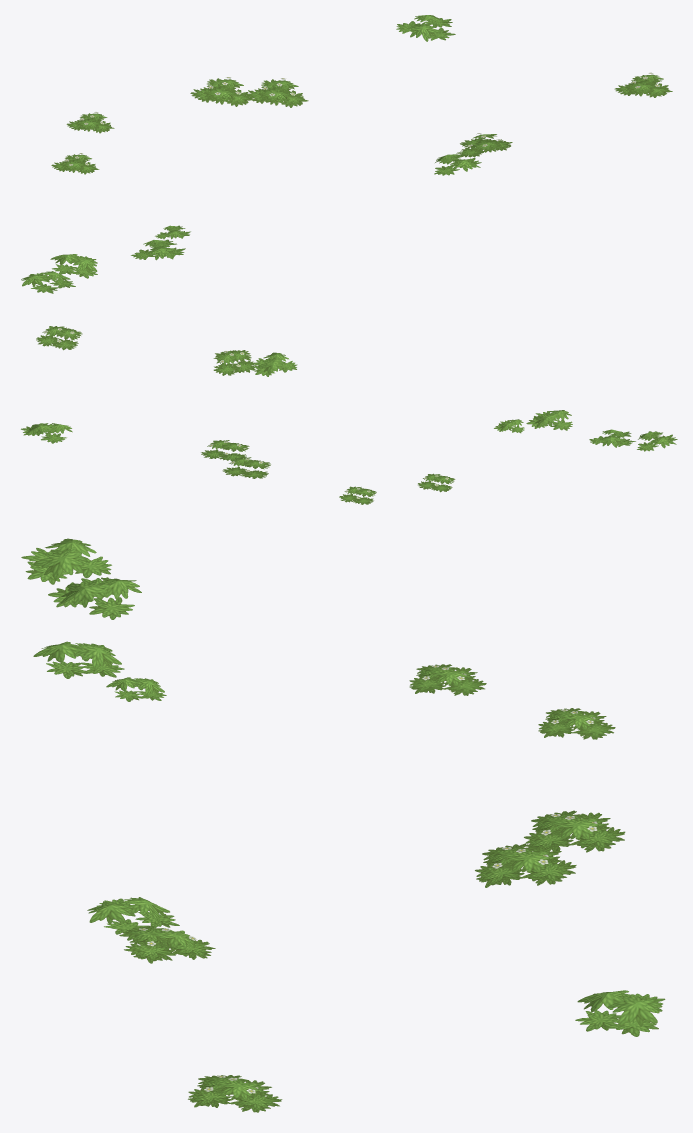
File: Area_10_9.fbx
The picture shows the model from 3 angles, top to bottom: view 1: azimuth 30°, elevation 25°; view 2: azimuth 150°, elevation 25°; view 3: azimuth 270°, elevation 25°; orthographic projection. The views are drawn at different scales.
Visible parts, largest first — view 1: Area_10_9; view 2: Area_10_9; view 3: Area_10_9.
Boxes of the visible parts, bbox=[...] form: Area_10_9: bbox=[21, 15, 672, 293]; Area_10_9: bbox=[21, 326, 677, 504]; Area_10_9: bbox=[21, 538, 665, 1112].
Bounding box in the file's own units: 4540 × 102 × 2201.
